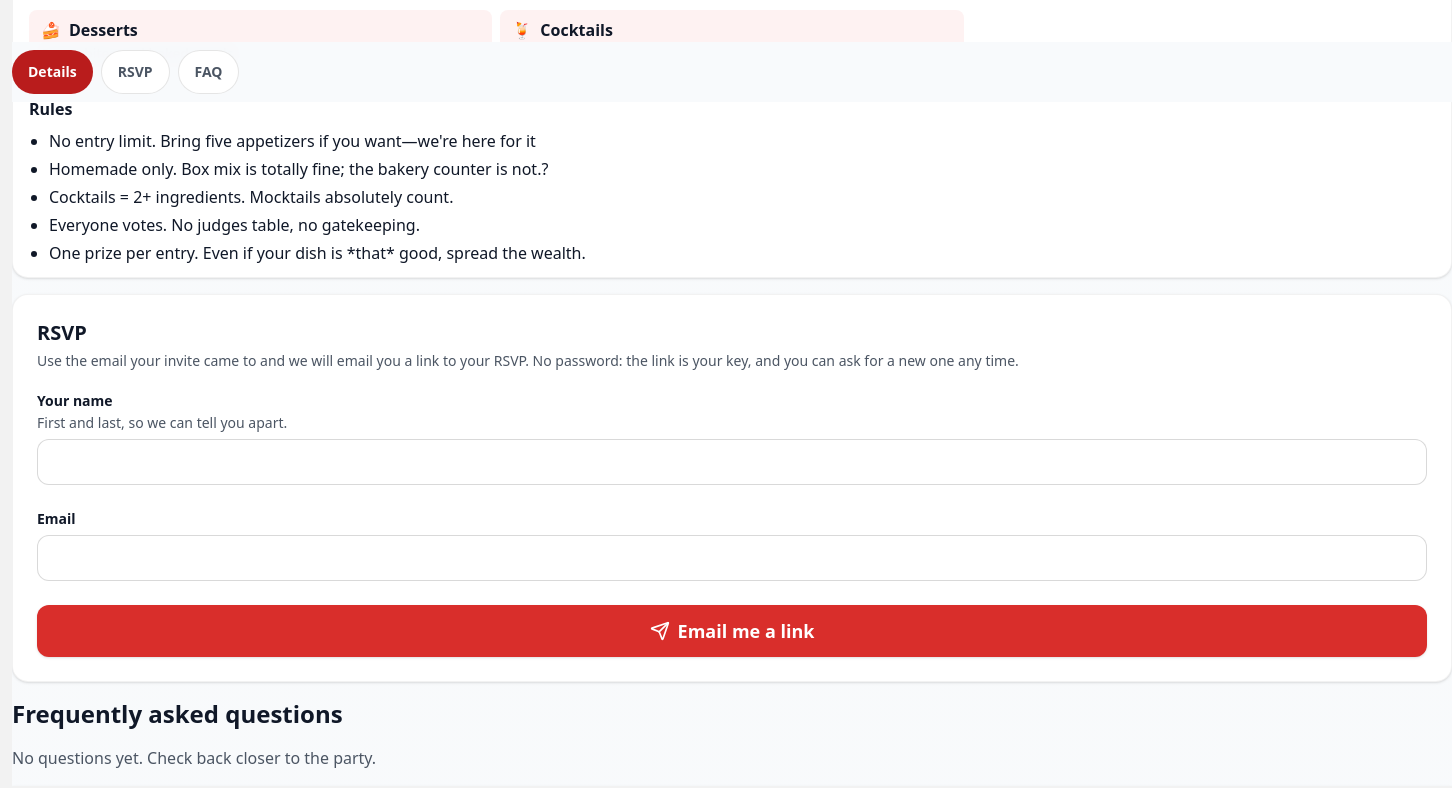
Scenario: Event page RSVP › does not offer to ask again once someone has asked
(page scrolled)
Step 1. Type "Sam Stranger" into the field labelled "Your name" → (732, 462), box [37,439,1427,485]
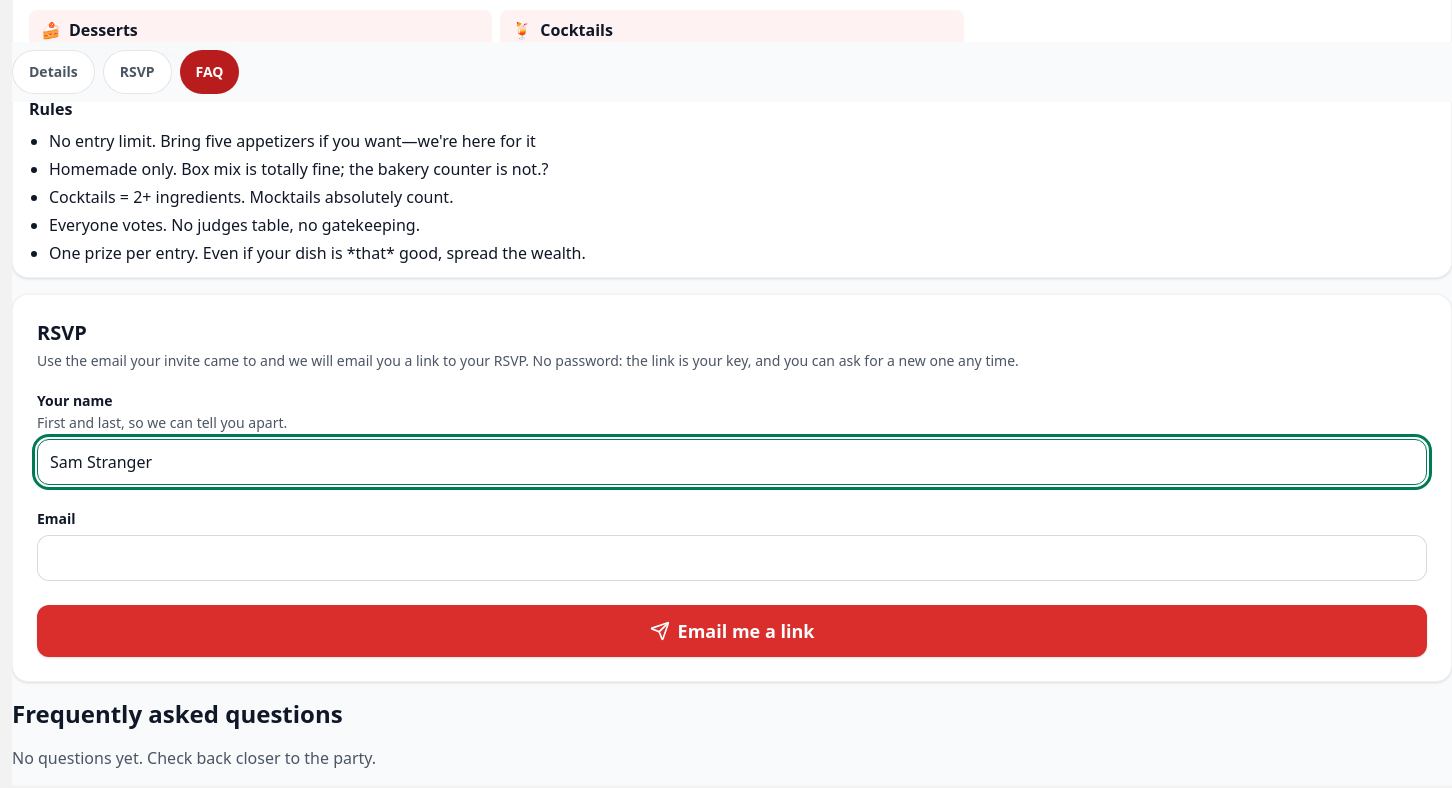
Step 2. Type "sam@example.com" into the field labelled "Email" → (732, 558), box [37,535,1427,581]
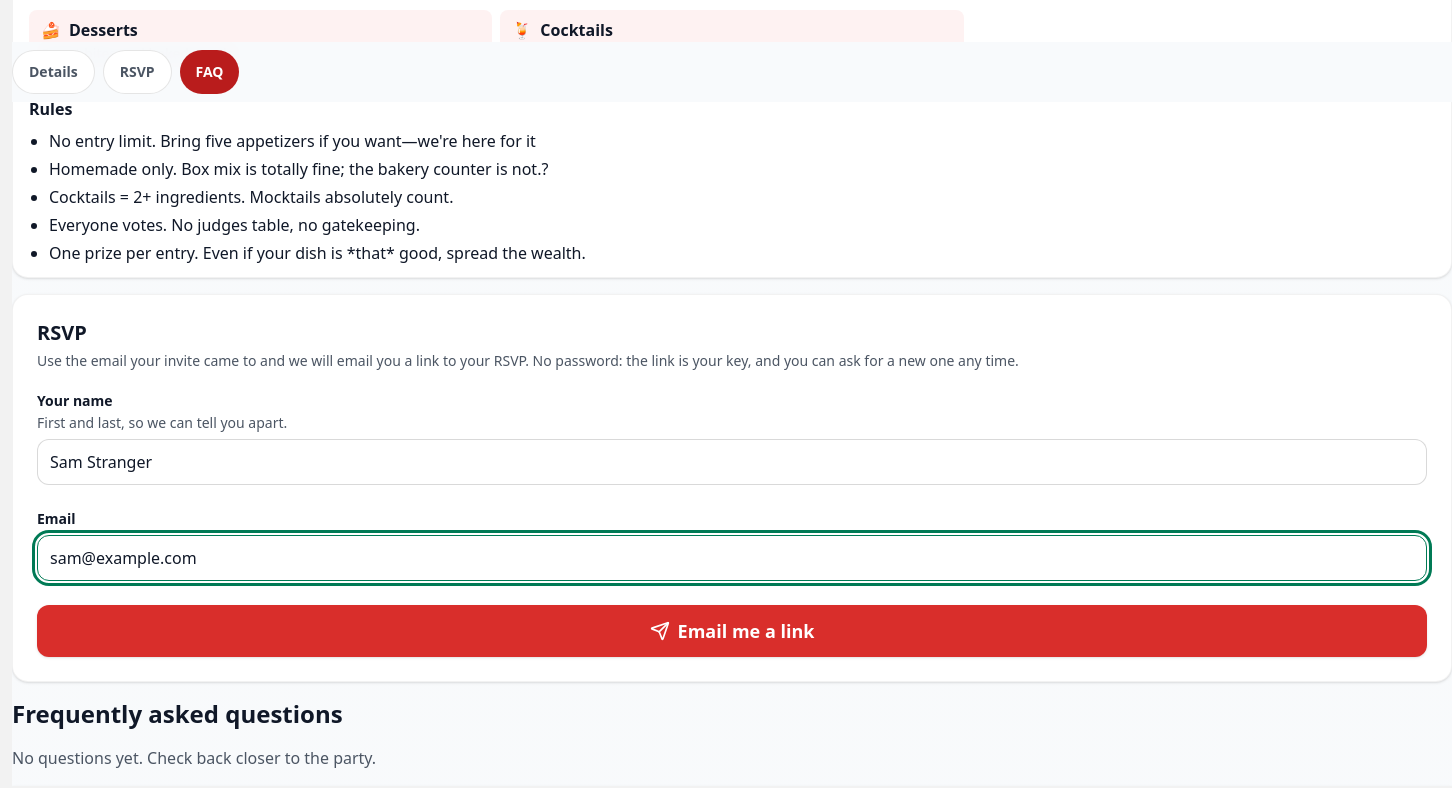
Step 3. Click the button "Email me a link" → (732, 631), box [37,605,1427,657]
(page scrolled)
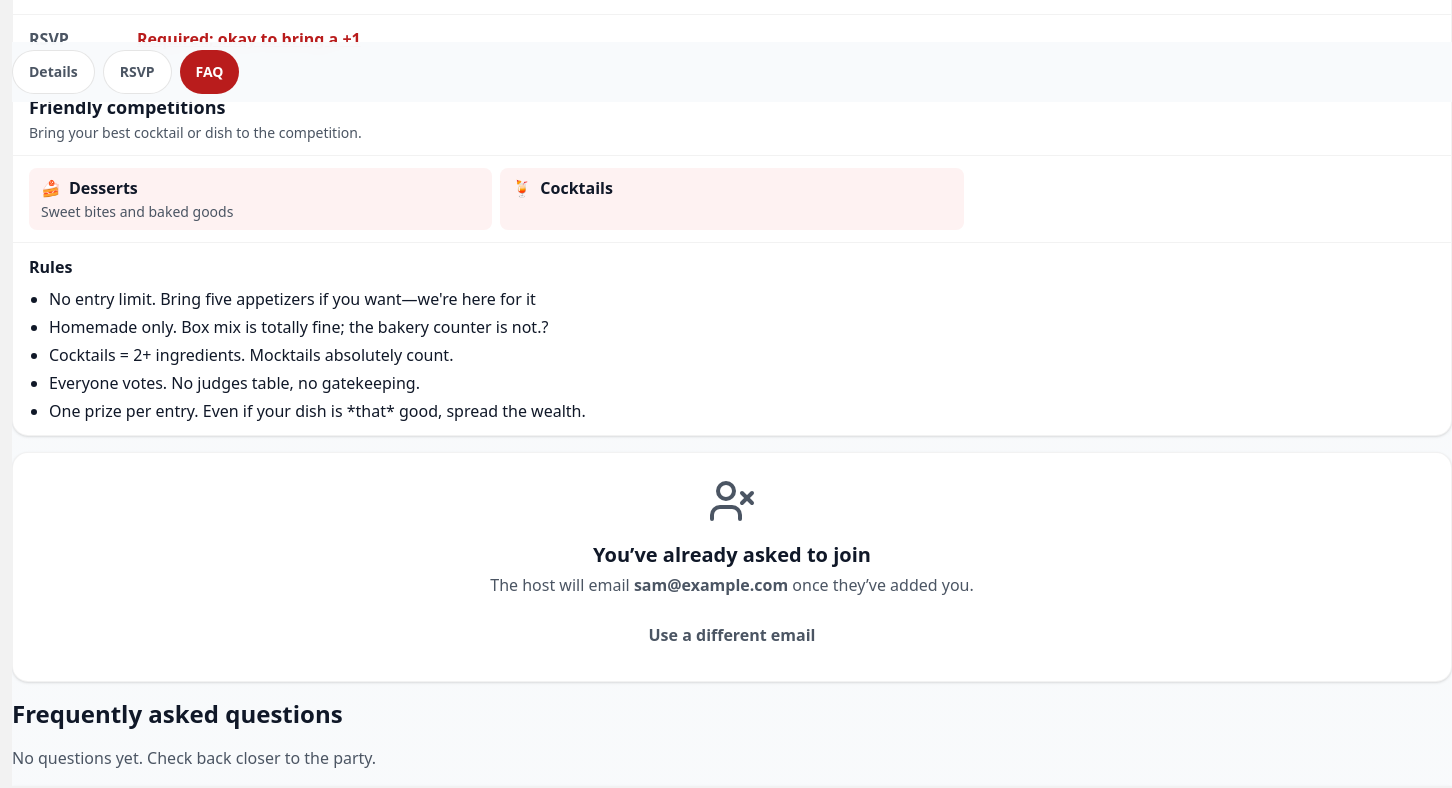
Now the heading "You’ve already asked to join" is shown, box [593,541,871,568]
